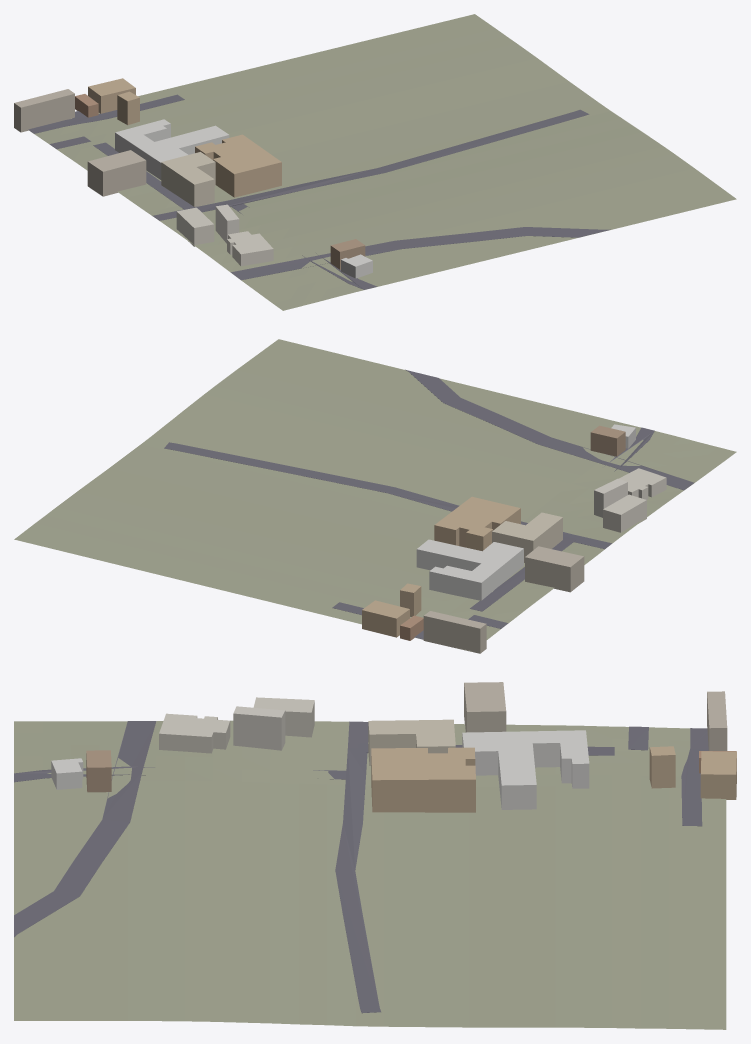
File: chunk_11_6.glb
3 renders of one model, top to bottom at view 1: azimuth 30°, elevation 25°; view 2: azimuth 150°, elevation 25°; view 3: azimuth 270°, elevation 25°, orthographic. The views are drawn at different scales.
Parts seen in each view (by area): view 1: geometry_13, geometry_4, geometry_14, geometry_6, geometry_15, geometry_5, geometry_11, geometry_10, geometry_12, geometry_0, geometry_8, geometry_18 (+5 smaller); view 2: geometry_13, geometry_6, geometry_14, geometry_4, geometry_15, geometry_11, geometry_10, geometry_5, geometry_8, geometry_0, geometry_12, geometry_2 (+3 smaller); view 3: geometry_13, geometry_4, geometry_6, geometry_15, geometry_14, geometry_5, geometry_12, geometry_1, geometry_11, geometry_18, geometry_8, geometry_0 (+5 smaller).
Boxes of the visible parts, x1,y1,x2,y2 form: geometry_13: (29,14,736,310); geometry_4: (195,134,281,197); geometry_14: (231,227,610,280); geometry_6: (115,119,229,179); geometry_15: (152,109,589,220); geometry_5: (161,152,215,206); geometry_11: (87,150,146,196); geometry_10: (14,89,74,132); geometry_12: (227,231,273,266); geometry_0: (176,207,214,246); geometry_8: (88,78,135,113); geometry_18: (28,94,184,133); geometry_13: (14,339,736,651); geometry_6: (416,539,523,600); geometry_14: (405,369,694,490); geometry_4: (434,496,520,551); geometry_15: (164,442,611,549); geometry_11: (525,546,584,592); geometry_10: (423,611,486,653); geometry_5: (492,512,562,562); geometry_8: (362,600,409,637); geometry_0: (603,494,646,532); geometry_12: (619,468,666,499); geometry_2: (590,425,625,456); geometry_13: (14,720,726,1029); geometry_4: (371,747,475,812); geometry_6: (462,730,589,809); geometry_15: (335,721,380,1013); geometry_14: (14,721,156,937); geometry_5: (368,719,455,765); geometry_12: (159,713,230,753); geometry_1: (233,706,285,750); geometry_11: (464,682,506,732); geometry_18: (681,728,708,826); geometry_8: (700,751,736,799); geometry_0: (253,697,314,737).
Bounding box in the file's own units: 258 × 15.99 × 254.
